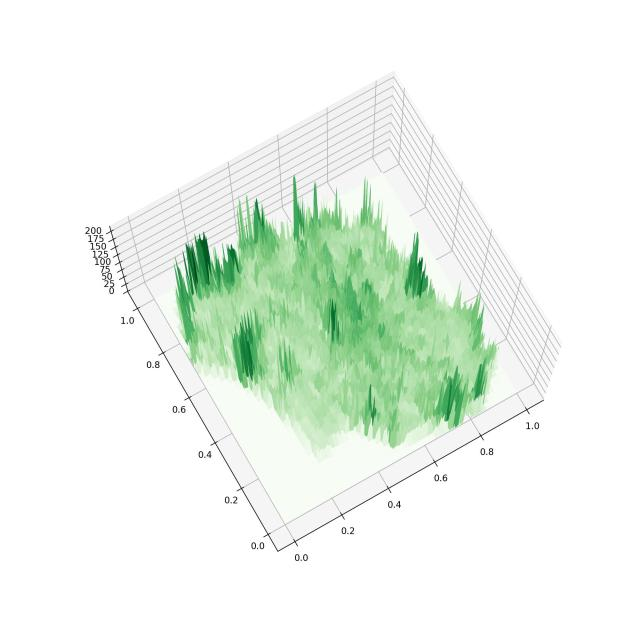spruce: (44, 48, 611, 586)
